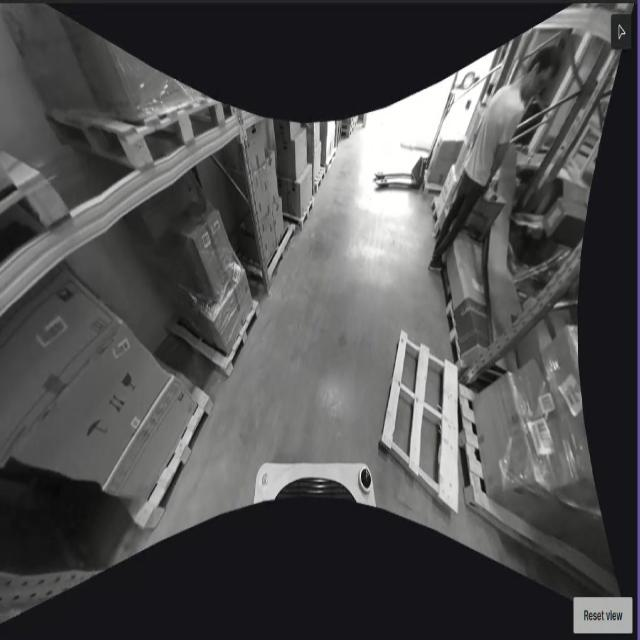Pallets-and-forklifts: (381, 326, 461, 513), (135, 395, 214, 533), (113, 92, 242, 176), (461, 393, 525, 542), (0, 175, 71, 264), (193, 300, 263, 382), (261, 224, 298, 291)
forlift: (374, 145, 426, 198)
